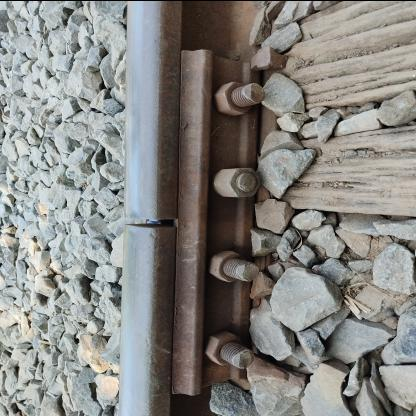Non Defective: (191, 43, 287, 400), (116, 198, 184, 252)
